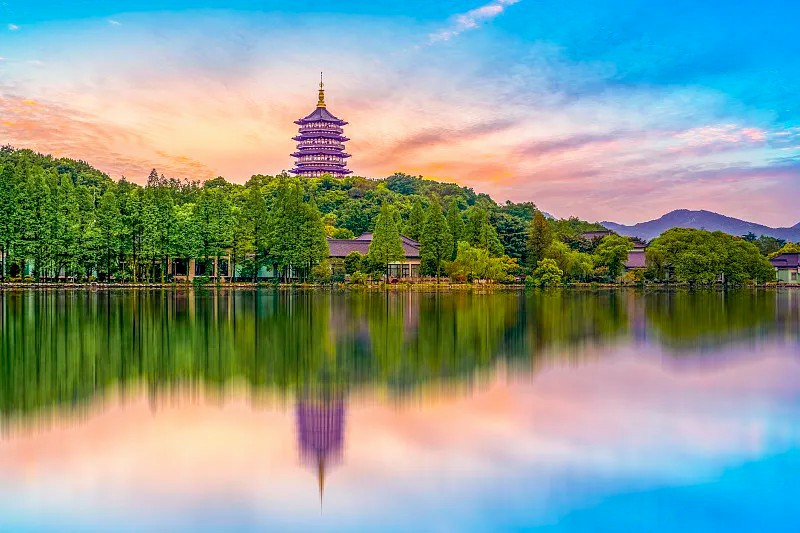Leifeng: (289, 70, 353, 179)
